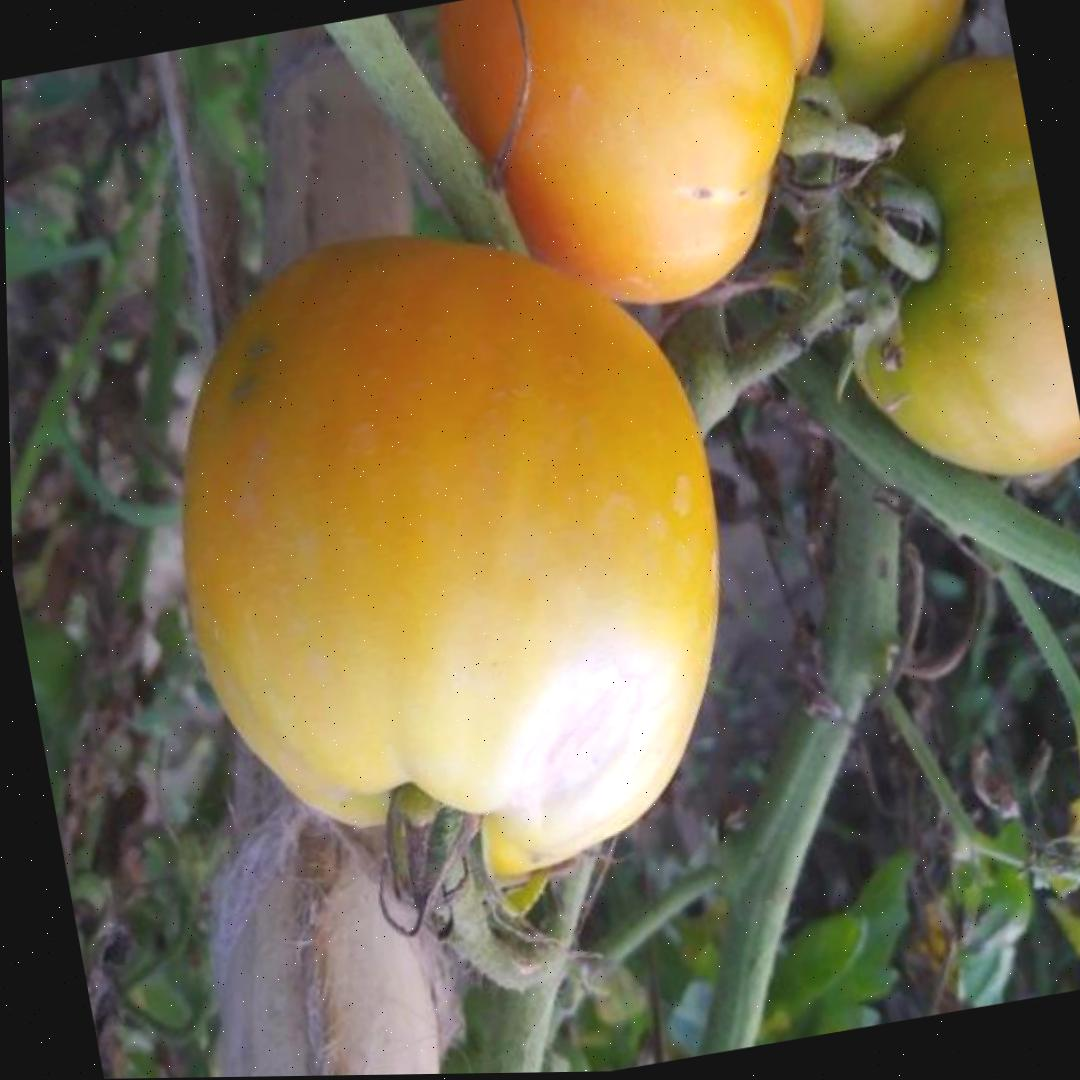setengah_matang: (121, 179, 781, 930), (426, 0, 878, 342), (791, 45, 1080, 510)
